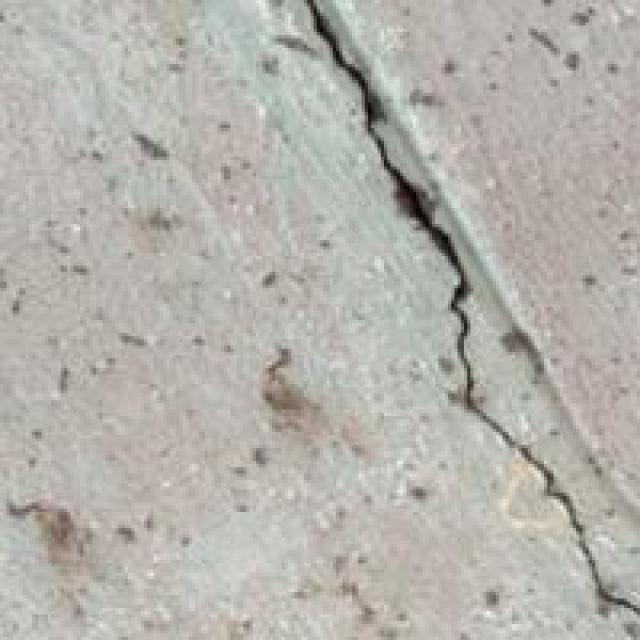crack: (294, 10, 628, 608)
